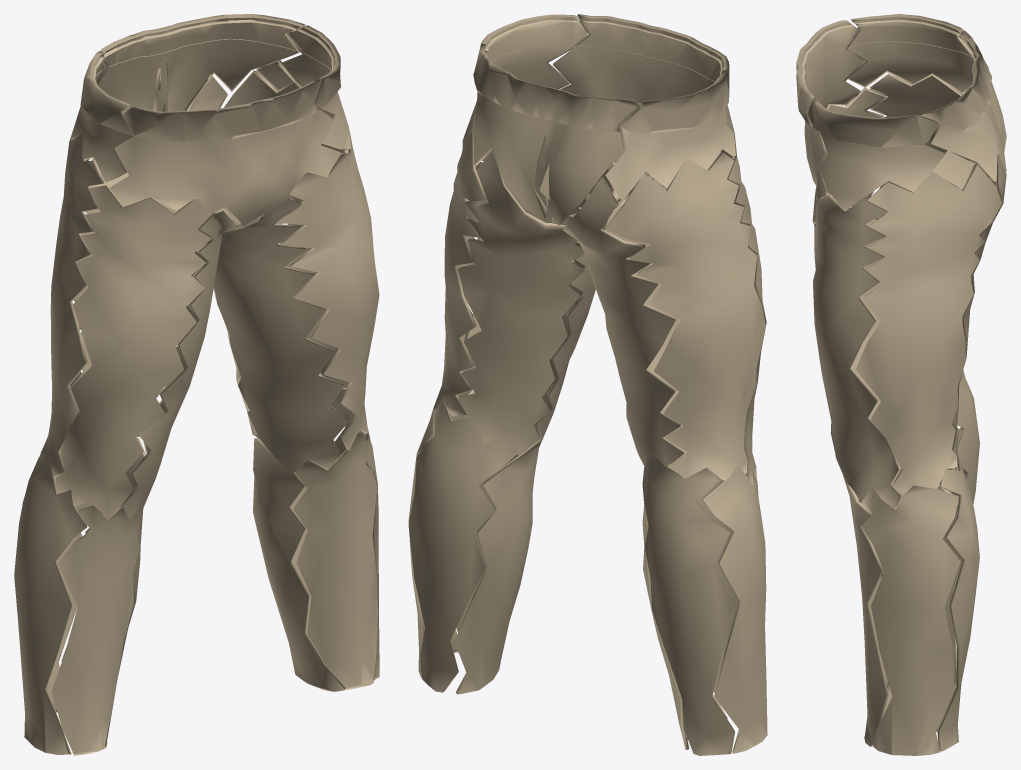
File: pants-beige-v1.glb
The picture shows the model from 3 angles, left to right: view 1: azimuth 30°, elevation 25°; view 2: azimuth 150°, elevation 25°; view 3: azimuth 270°, elevation 25°; orthographic projection. The views are drawn at different scales.
Visible parts, largest first — view 1: pants_leg_R, pants_leg_L, pants_waist, pants_waistband; view 2: pants_leg_R, pants_leg_L, pants_waist, pants_waistband; view 3: pants_leg_L, pants_waist, pants_waistband, pants_leg_R.
Part boxes in pixels (x1=…): pants_leg_R: x1=14, y1=131, x2=236, y2=755; pants_leg_L: x1=188, y1=70, x2=379, y2=691; pants_waist: x1=70, y1=19, x2=350, y2=231; pants_waistband: x1=80, y1=14, x2=340, y2=142; pants_leg_R: x1=563, y1=149, x2=767, y2=755; pants_leg_L: x1=408, y1=131, x2=617, y2=694; pants_waist: x1=463, y1=20, x2=738, y2=225; pants_waistband: x1=473, y1=14, x2=729, y2=133; pants_leg_L: x1=813, y1=154, x2=1006, y2=755; pants_waist: x1=801, y1=19, x2=1006, y2=218; pants_waistband: x1=796, y1=14, x2=991, y2=147; pants_leg_R: x1=812, y1=73, x2=1006, y2=574.
Size of the model in its own units: 0.5121 by 0.9291 by 0.2865.
